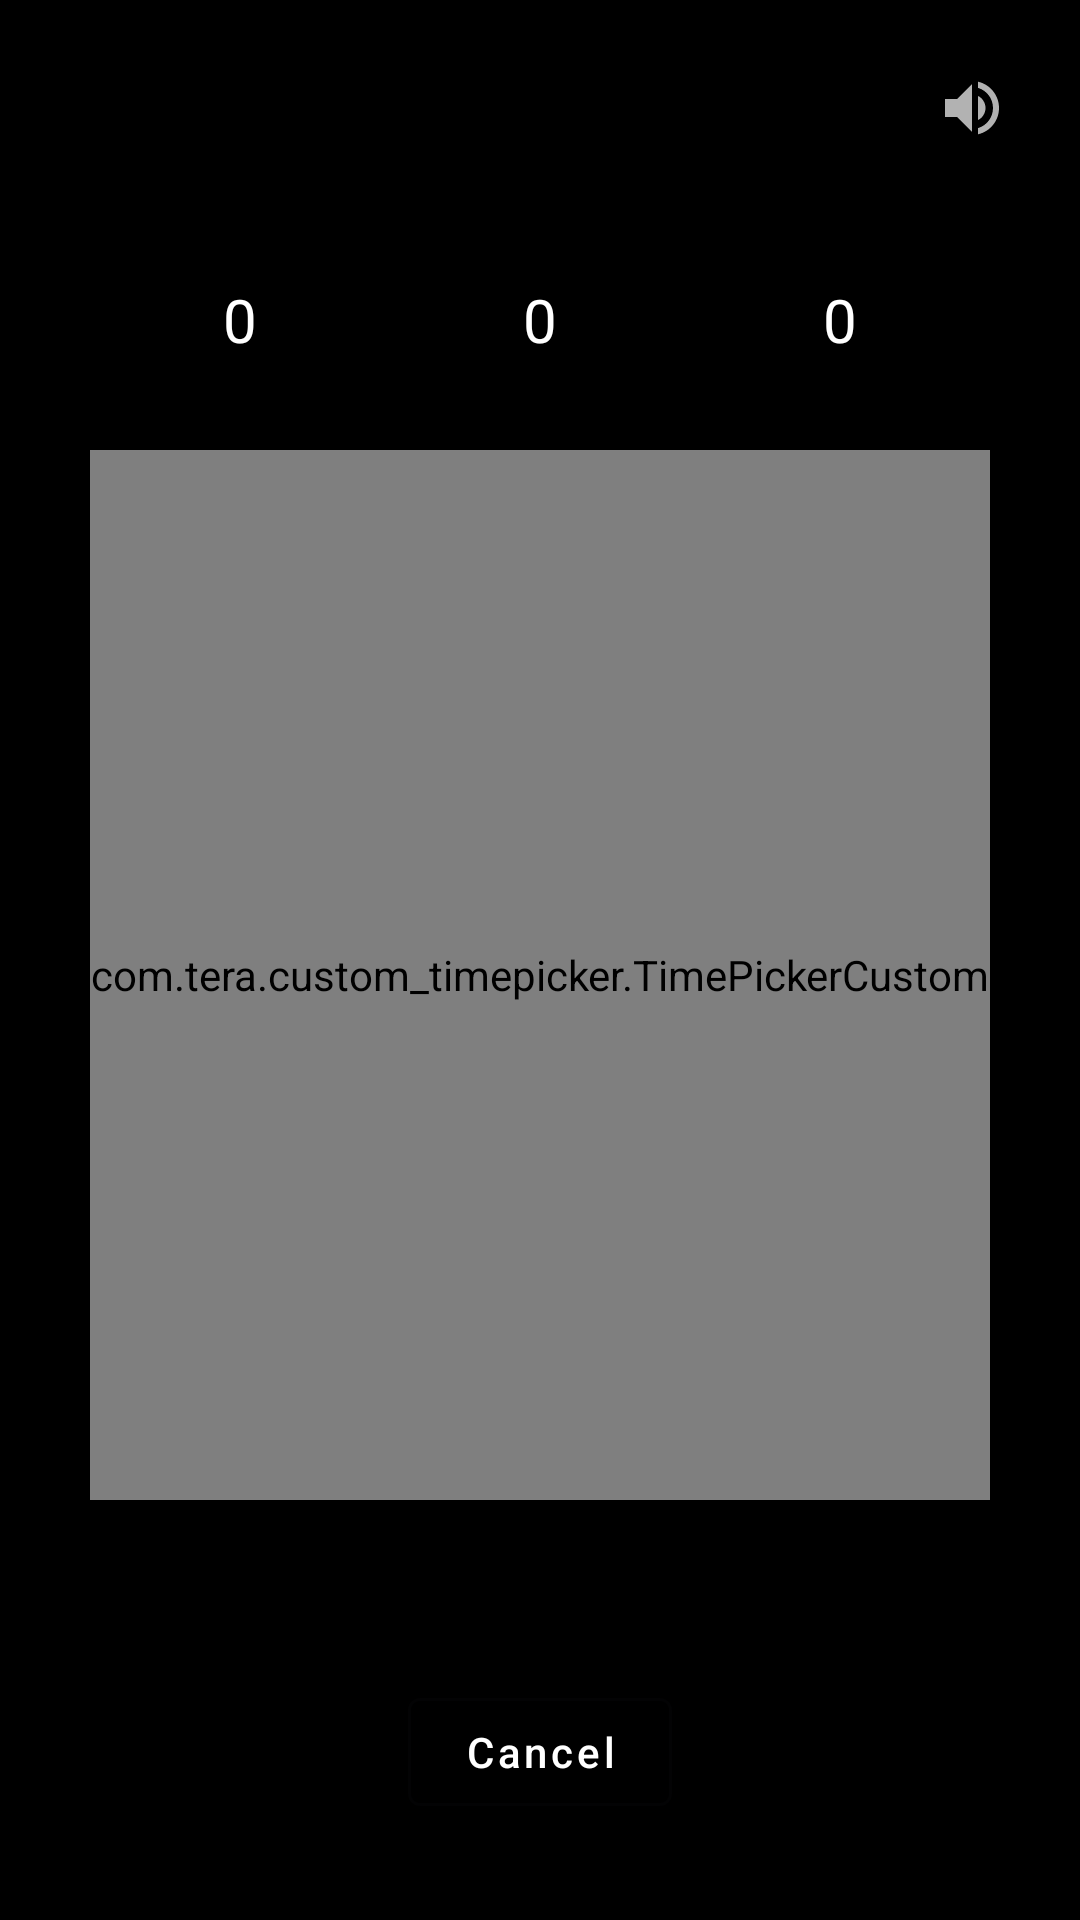

Icons on this 1080x1920 Android screen, each with its box as (x1, y1, x2, y2):
volume up: (945, 81, 999, 135)
